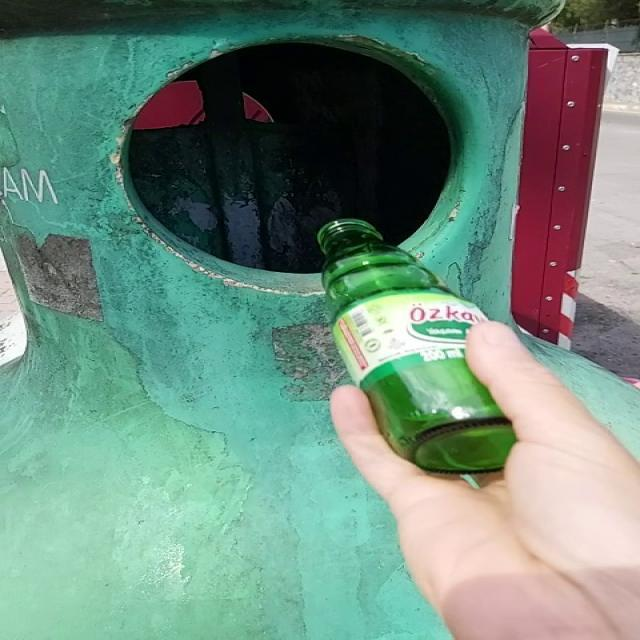Glass: (317, 219, 516, 474)
